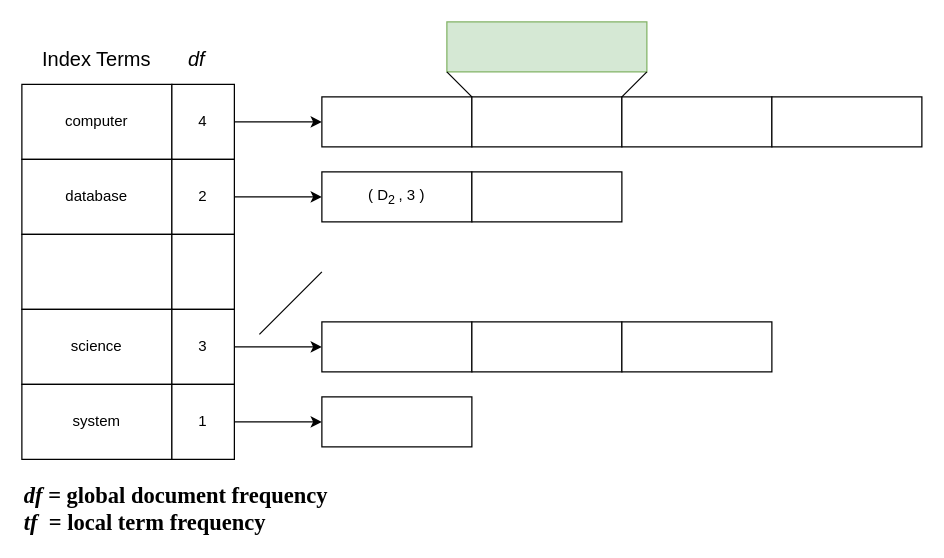
The diagram is 944 pixels wide and 558 high, and some of its shapes have lost their labels. Each missing label, with the centre of its shape:
"( D 2 , 4 )" belongs at (396,346).
"( D 5 , 7 )" belongs at (396,421).
"( D 7 , 4 )" belongs at (396,121).
"( D j , tf i )" belongs at (546,46).
